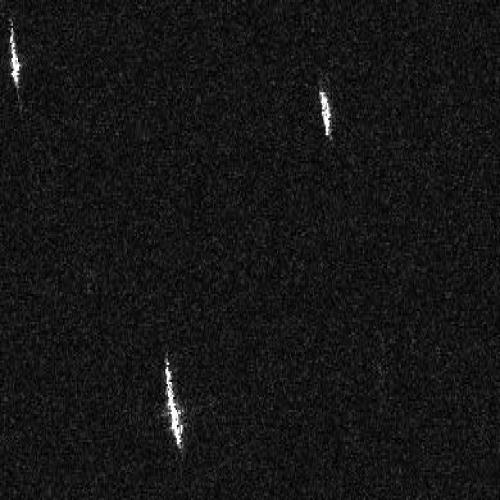ship: (163, 356, 184, 451), (9, 22, 22, 93), (317, 87, 333, 138)
